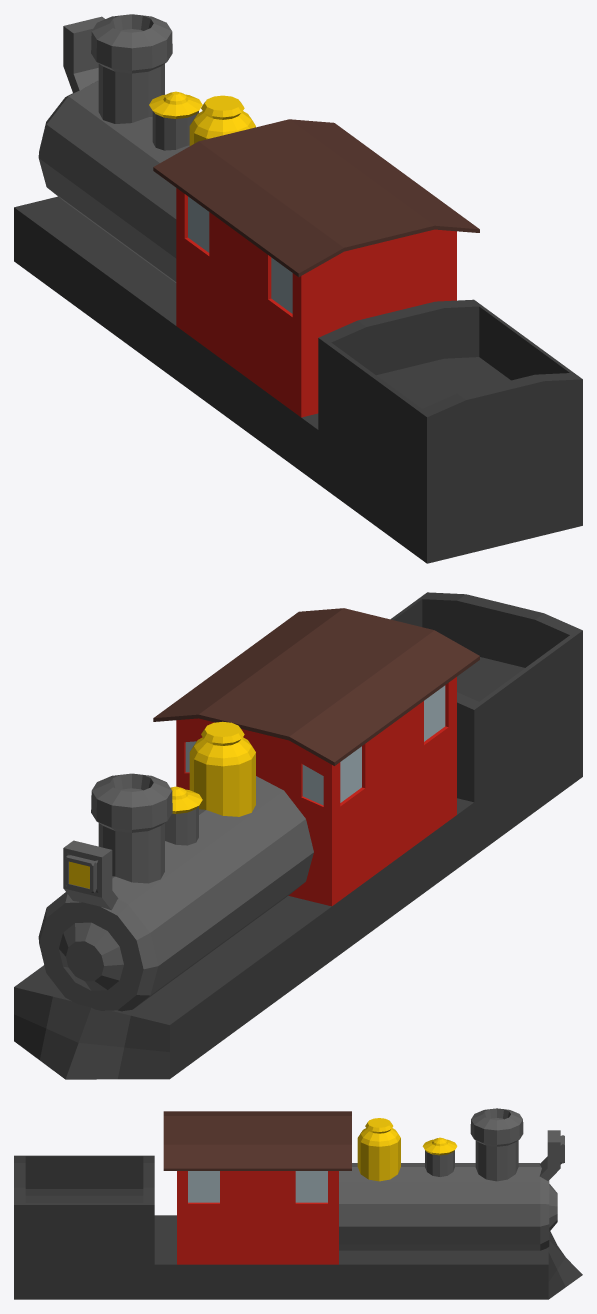
Rendered from TrainMain.fbx.
3 renders of one model, top to bottom at view 1: azimuth 30°, elevation 25°; view 2: azimuth 150°, elevation 25°; view 3: azimuth 270°, elevation 25°, orthographic. The views are drawn at different scales.
Visible parts, largest first — view 1: Cube, Circle, Circle.002, Circle.001, Cube.001; view 2: Cube, Circle, Circle.002, Circle.001, Cube.001; view 3: Cube, Circle, Circle.001, Circle.002, Cube.001.
Part boxes in pixels (x1,y1,x2,y2): Cube: (14,119,582,563); Circle: (38,80,189,282); Circle.002: (91,14,172,123); Circle.001: (149,91,255,150); Cube.001: (63,16,105,92); Cube: (14,592,582,1079); Circle: (38,776,313,1011); Circle.002: (91,773,172,883); Circle.001: (165,721,255,845); Cube.001: (63,840,118,910); Cube: (14,1111,582,1299); Circle: (339,1163,557,1250); Circle.001: (357,1118,457,1181); Circle.002: (470,1108,523,1181); Cube.001: (539,1130,564,1180).
Bounding box in the file's own units: 238 × 312 × 1000.
1 material, 1 textured.
